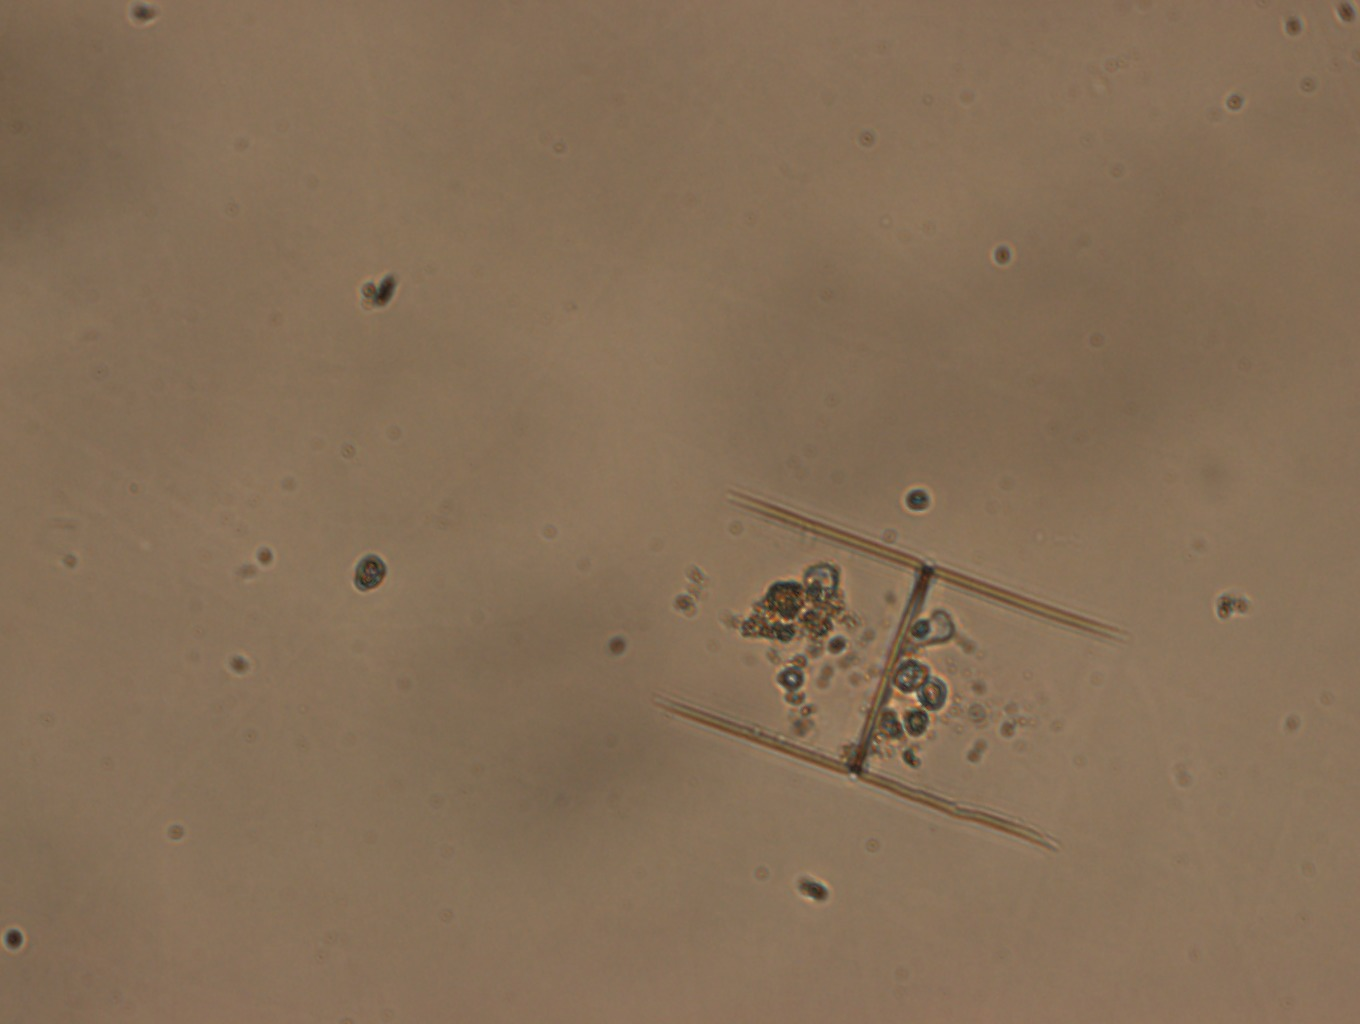guinardia flaccida: (652, 489, 1129, 848)
